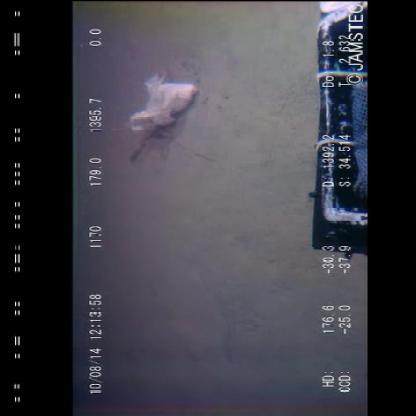Rác: (118, 67, 210, 136)
